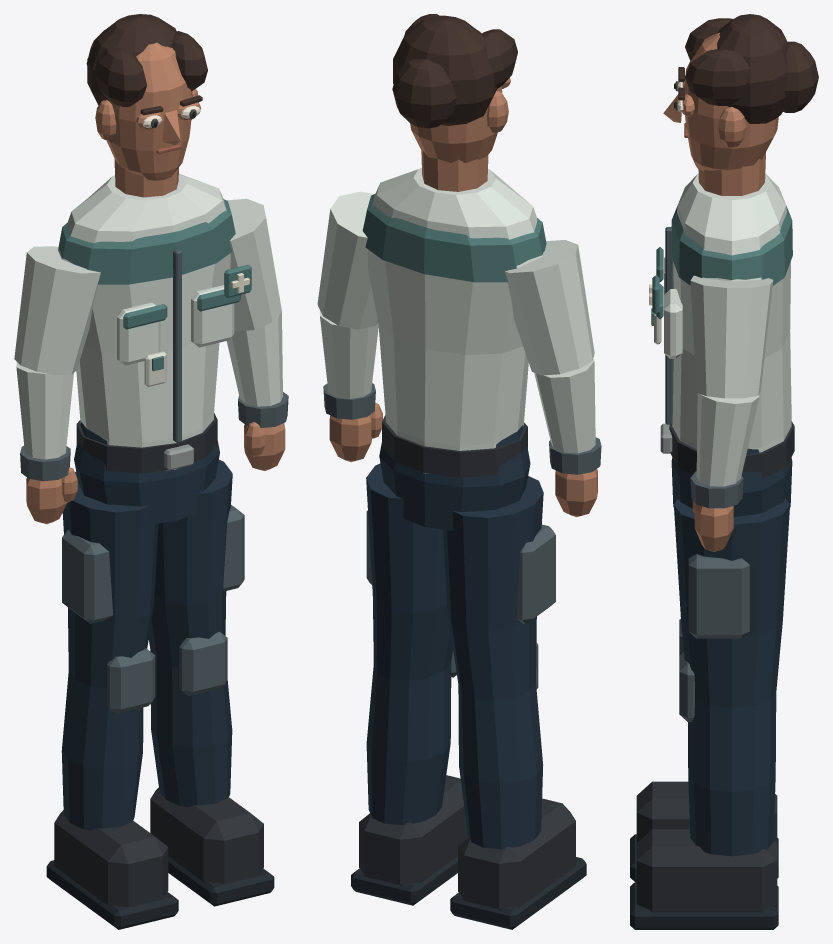
Rendered from Mira.glb.
3 views of the same model, side by side, from view 1: azimuth 30°, elevation 25°; view 2: azimuth 150°, elevation 25°; view 3: azimuth 270°, elevation 25° (orthographic). The views are drawn at different scales.
Visible parts, largest first — view 1: Mira; view 2: Mira; view 3: Mira.
Part boxes in pixels (<box>): Mira: <box>14,14,288,929</box>; Mira: <box>317,14,601,929</box>; Mira: <box>630,14,818,929</box>.
Size of the model in its own units: 0.5368 by 1.68 by 0.3292.
